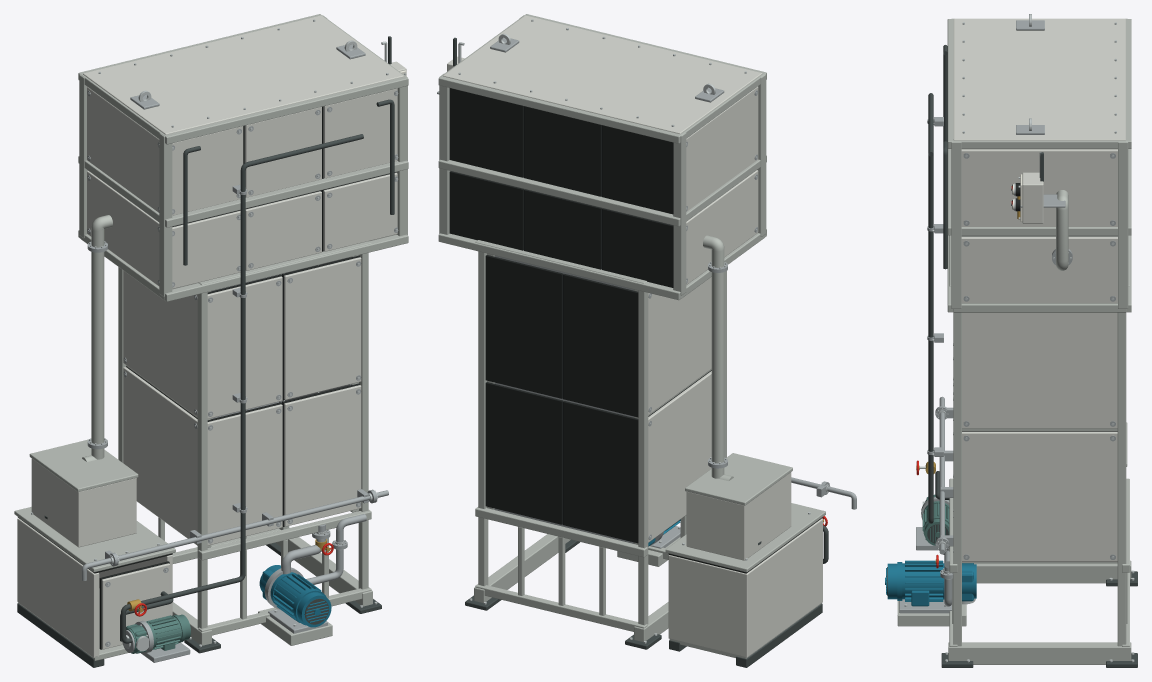
Rendered from pit_furnace_3_v1.glb.
3 renders of one model, left to right at view 1: azimuth 30°, elevation 25°; view 2: azimuth 150°, elevation 25°; view 3: azimuth 270°, elevation 25°, orthographic. The views are drawn at different scales.
Parts seen in each view (by area): view 1: pf3_external_cover_f3_front_shell_v6_enamel, pf3_f3_T_shoulder_enclosure_v6_enamel, pf3_f3_fixed_base_and_tower_frame_v6_enamel_edge, pf3_f3_low_left_reservoir_and_pump_v6_enamel, pf3_f3_low_left_reservoir_and_pump_v6_enamel_edge, pf3_f3_exposed_process_pipework_v6_dark_structure, pf3_f3_exposed_process_pipework_v6_brushed_metal, pf3_f3_exposed_process_pipework_v6_enamel_edge, pf3_external_cover_f3_reservoir_front_v6_enamel, pf3_f3_lower_center_pump_v6_motor_blue, pf3_external_cover_f3_front_shell_v6_gasket, pf3_f3_low_left_reservoir_and_pump_v6_motor_teal (+6 smaller); view 2: pf3_f3_T_shoulder_enclosure_v6_gasket, pf3_f3_T_shoulder_enclosure_v6_enamel, pf3_f3_fixed_base_and_tower_frame_v6_enamel_edge, pf3_f3_low_left_reservoir_and_pump_v6_enamel, pf3_f3_low_left_reservoir_and_pump_v6_enamel_edge, pf3_f3_exposed_process_pipework_v6_enamel_edge, pf3_f3_low_left_reservoir_and_pump_v6_dark_structure, pf3_f3_thick_section_walls_and_rear_lining_v6_brushed_metal, pf3_f3_exposed_process_pipework_v6_brushed_metal, pf3_f3_fixed_base_and_tower_frame_v6_dark_structure; view 3: pf3_f3_T_shoulder_enclosure_v6_enamel, pf3_f3_fixed_base_and_tower_frame_v6_enamel_edge, pf3_f3_exposed_process_pipework_v6_dark_structure, pf3_f3_lower_center_pump_v6_motor_blue, pf3_f3_exposed_process_pipework_v6_brushed_metal, pf3_f3_thick_section_walls_and_rear_lining_v6_enamel_edge, pf3_f3_upper_right_double_gauge_v6_enamel, pf3_f3_upper_right_double_gauge_v6_enamel_edge, pf3_f3_lower_center_pump_v6_enamel_edge, pf3_f3_fixed_base_and_tower_frame_v6_dark_structure, pf3_f3_low_left_reservoir_and_pump_v6_motor_teal, pf3_f3_upper_internal_guide_v6_brushed_metal (+4 smaller).
Boxes of the visible parts, x1,y1,x2,y2 form: pf3_external_cover_f3_front_shell_v6_enamel: [172, 88, 397, 545]; pf3_f3_T_shoulder_enclosure_v6_enamel: [83, 15, 403, 545]; pf3_f3_fixed_base_and_tower_frame_v6_enamel_edge: [78, 14, 408, 645]; pf3_f3_low_left_reservoir_and_pump_v6_enamel: [17, 458, 172, 657]; pf3_f3_low_left_reservoir_and_pump_v6_enamel_edge: [14, 439, 175, 660]; pf3_f3_exposed_process_pipework_v6_dark_structure: [120, 99, 394, 643]; pf3_f3_exposed_process_pipework_v6_brushed_metal: [81, 184, 388, 584]; pf3_f3_exposed_process_pipework_v6_enamel_edge: [82, 215, 112, 461]; pf3_external_cover_f3_reservoir_front_v6_enamel: [101, 563, 169, 649]; pf3_f3_lower_center_pump_v6_motor_blue: [259, 565, 331, 627]; pf3_external_cover_f3_front_shell_v6_gasket: [172, 106, 396, 526]; pf3_f3_low_left_reservoir_and_pump_v6_motor_teal: [126, 614, 190, 653]; pf3_f3_T_shoulder_enclosure_v6_gasket: [449, 88, 711, 543]; pf3_f3_T_shoulder_enclosure_v6_enamel: [443, 15, 762, 542]; pf3_f3_fixed_base_and_tower_frame_v6_enamel_edge: [438, 14, 766, 642]; pf3_f3_low_left_reservoir_and_pump_v6_enamel: [668, 472, 822, 657]; pf3_f3_low_left_reservoir_and_pump_v6_enamel_edge: [665, 453, 825, 658]; pf3_f3_exposed_process_pipework_v6_enamel_edge: [703, 235, 733, 480]; pf3_f3_low_left_reservoir_and_pump_v6_dark_structure: [669, 541, 822, 667]; pf3_f3_thick_section_walls_and_rear_lining_v6_brushed_metal: [494, 189, 633, 543]; pf3_f3_exposed_process_pipework_v6_brushed_metal: [708, 262, 856, 509]; pf3_f3_fixed_base_and_tower_frame_v6_dark_structure: [465, 539, 661, 649]; pf3_f3_T_shoulder_enclosure_v6_enamel: [953, 18, 1125, 561]; pf3_f3_fixed_base_and_tower_frame_v6_enamel_edge: [947, 18, 1131, 664]; pf3_f3_exposed_process_pipework_v6_dark_structure: [928, 45, 949, 523]; pf3_f3_lower_center_pump_v6_motor_blue: [885, 560, 976, 606]; pf3_f3_exposed_process_pipework_v6_brushed_metal: [927, 117, 953, 606]; pf3_f3_thick_section_walls_and_rear_lining_v6_enamel_edge: [961, 149, 1117, 563]; pf3_f3_upper_right_double_gauge_v6_enamel: [1022, 172, 1043, 223]; pf3_f3_upper_right_double_gauge_v6_enamel_edge: [1056, 190, 1068, 270]; pf3_f3_lower_center_pump_v6_enamel_edge: [897, 601, 966, 626]; pf3_f3_fixed_base_and_tower_frame_v6_dark_structure: [941, 571, 1137, 667]; pf3_f3_low_left_reservoir_and_pump_v6_motor_teal: [922, 494, 949, 545]; pf3_f3_upper_internal_guide_v6_brushed_metal: [1016, 20, 1044, 134].
Size of the model in its own units: 3.29 by 4.62 by 1.91.
